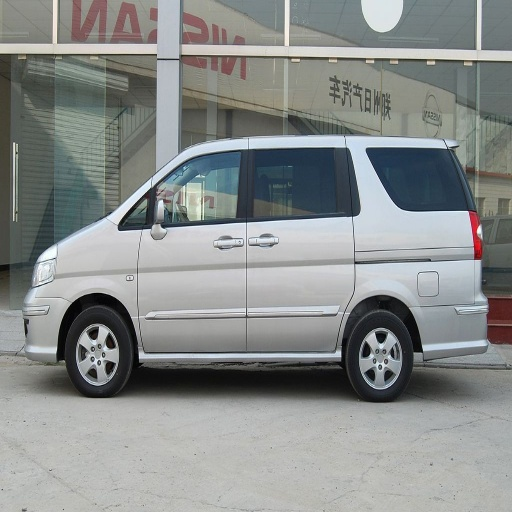back_glass: (369, 150, 468, 210)
back_left_door: (250, 144, 352, 318)
front_left_door: (129, 148, 247, 351)
tailgate: (338, 50, 453, 95)
trunk: (328, 249, 477, 357)
